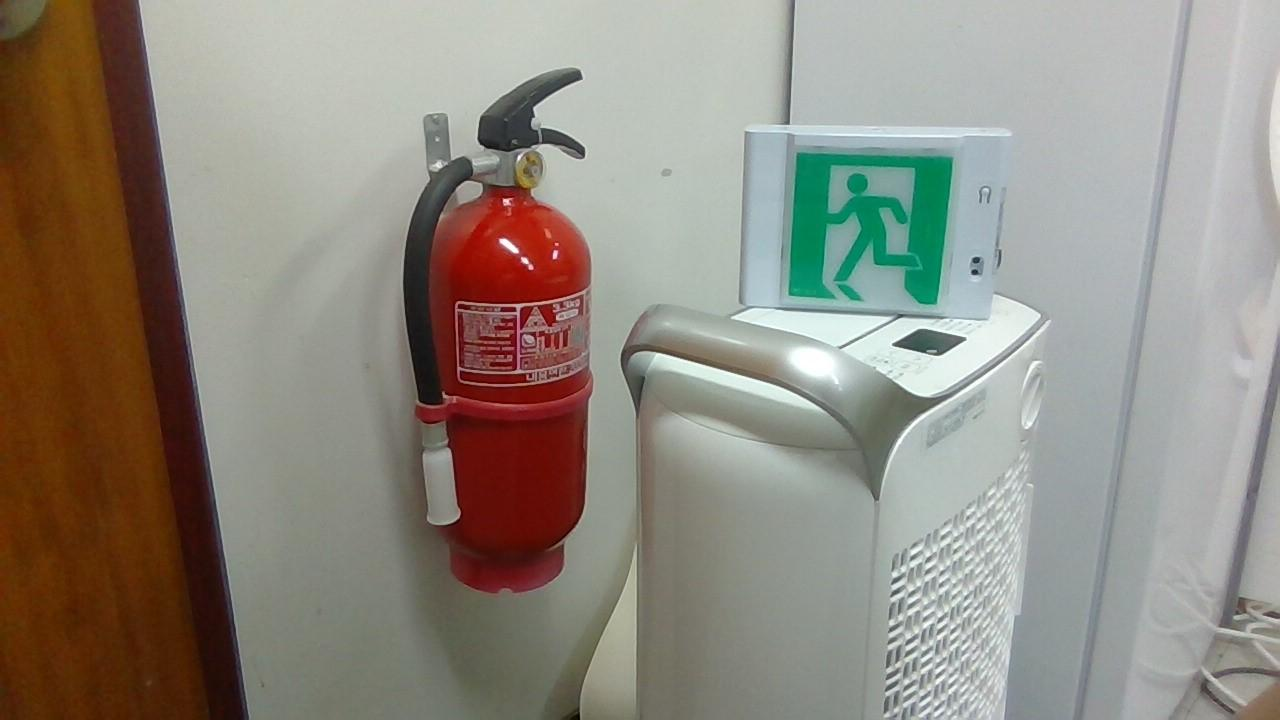emergency_exit: (738, 122, 1013, 321)
